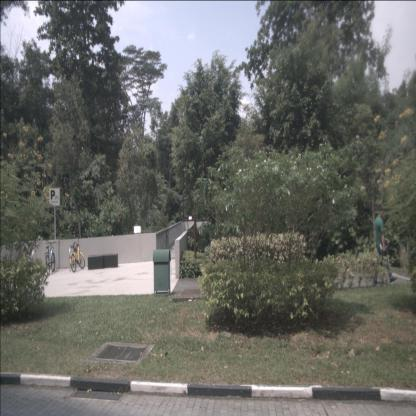human-pedestrian-adult: (372, 206, 397, 284)
vehicle-bicycle: (70, 238, 85, 273), (44, 240, 56, 275)
